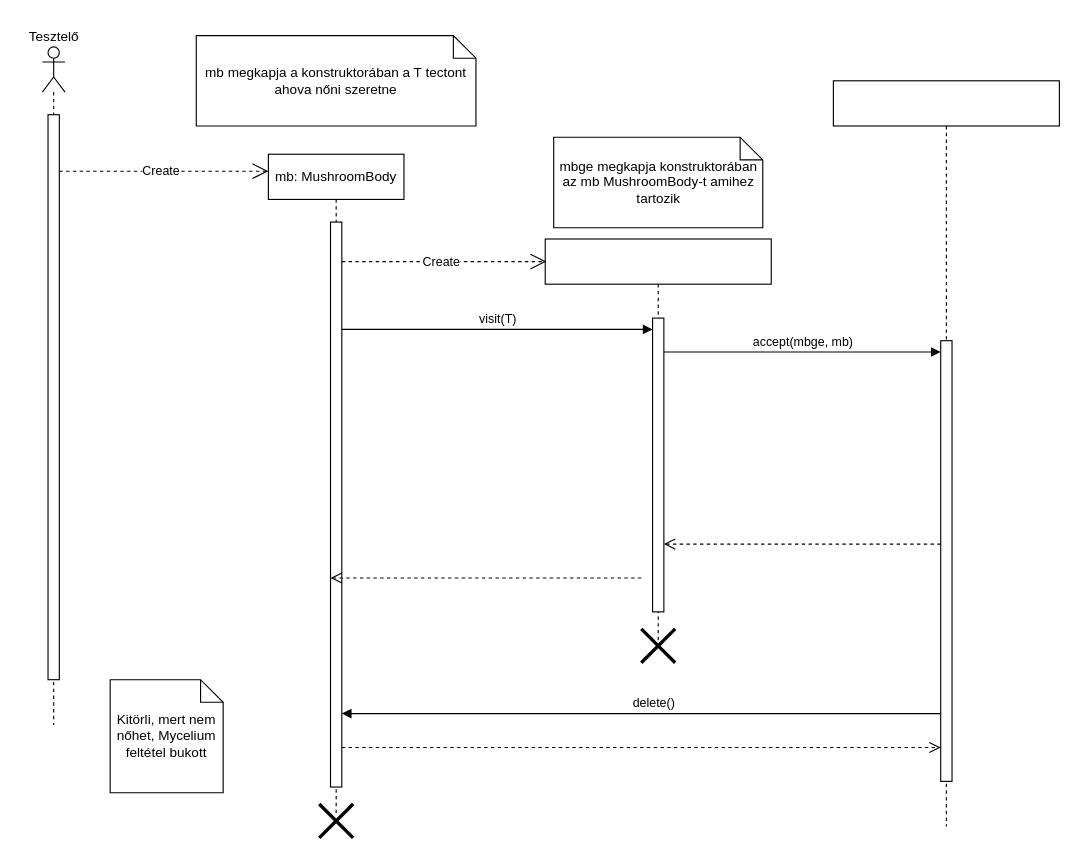
This 1079x859 diagram has some shape labels left out. Each missing label, with the box of its shape:
mbge: MushroomBodyGrowthEvaluator: (544, 238, 771, 646)
T: MultiLayeredTecton: (832, 80, 1059, 827)
